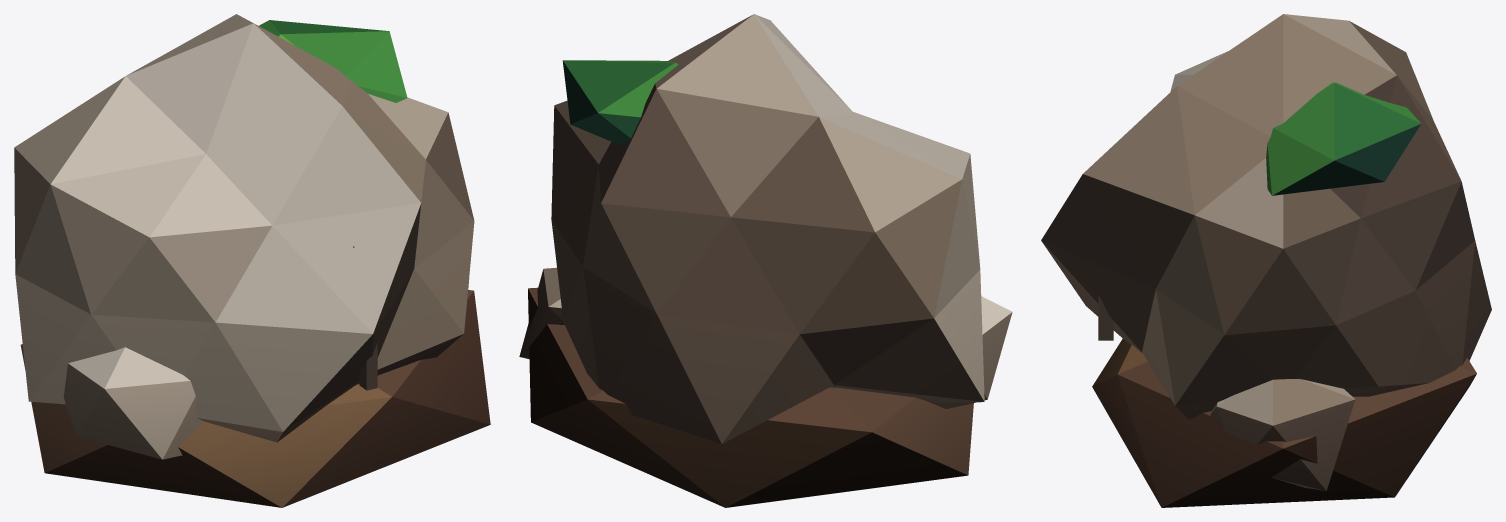
Rendered from boulder.glb.
3 renders of one model, left to right at view 1: azimuth 30°, elevation 25°; view 2: azimuth 150°, elevation 25°; view 3: azimuth 270°, elevation 25°, orthographic. The views are drawn at different scales.
Visible parts, largest first — view 1: boulder; view 2: boulder; view 3: boulder.
Boxes of the visible parts, left/top/right/bottom form: boulder: left=14, top=14, right=490, bottom=507; boulder: left=519, top=14, right=1012, bottom=507; boulder: left=1041, top=14, right=1491, bottom=507.
Size of the model in its own units: 1.01 by 0.8862 by 0.8776.
